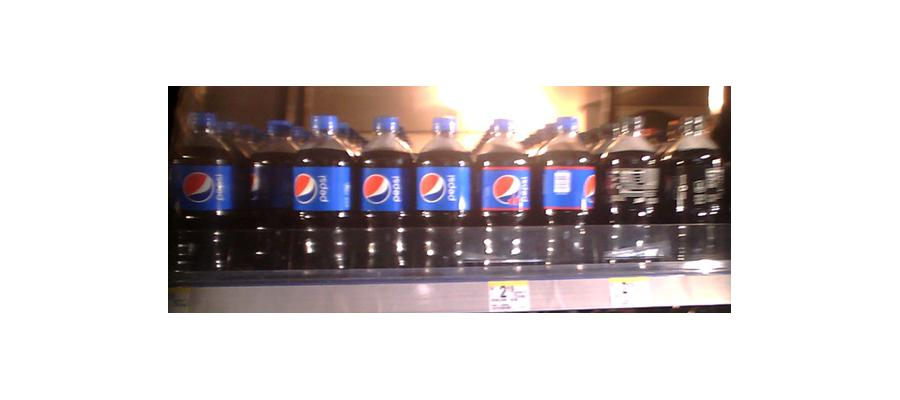bottle: (169, 106, 241, 275), (289, 113, 355, 267), (598, 113, 662, 264), (535, 109, 595, 264), (413, 111, 470, 270), (666, 111, 724, 265), (355, 113, 413, 265), (472, 114, 531, 262)
